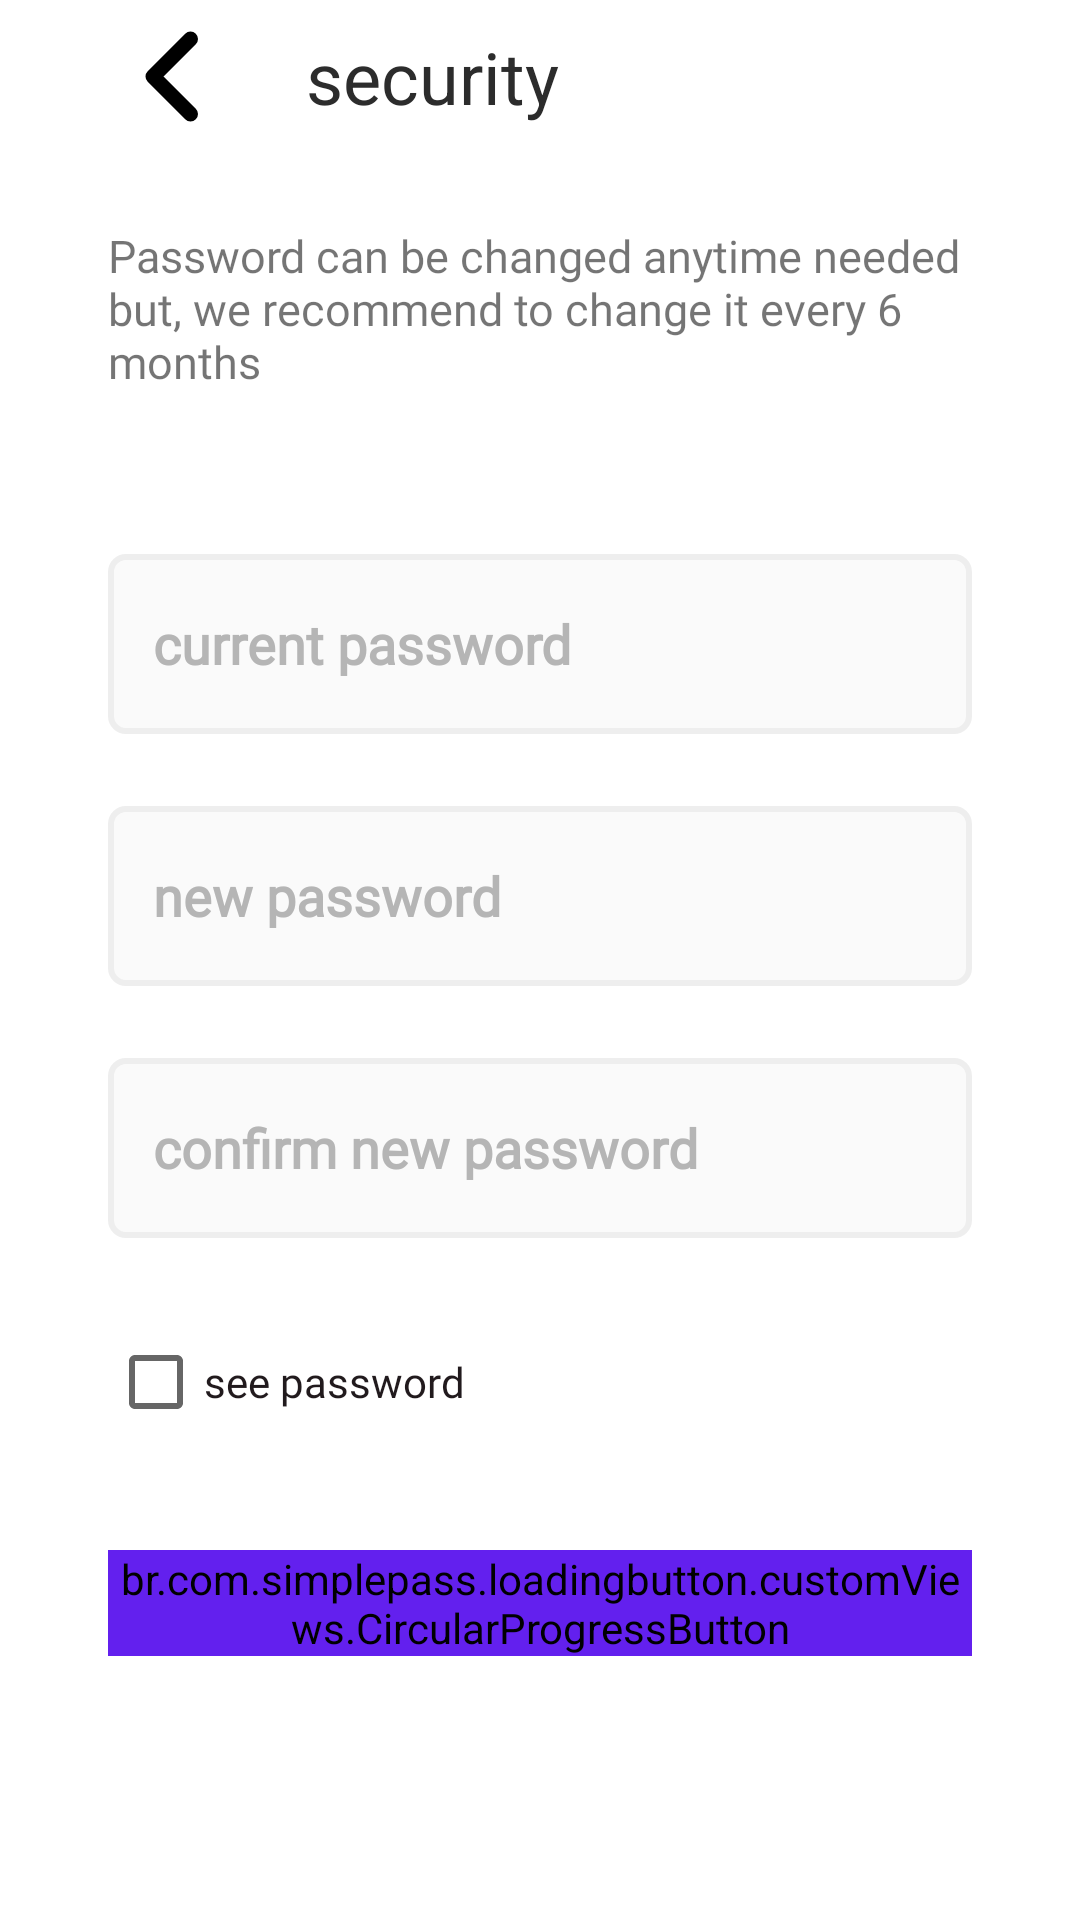

Icons on this 1080*1920 Android screen, each with its box as (x1=x1, y1=y1, x2=x2, y2=y2):
return: (x1=145, y1=31, x2=198, y2=122)
